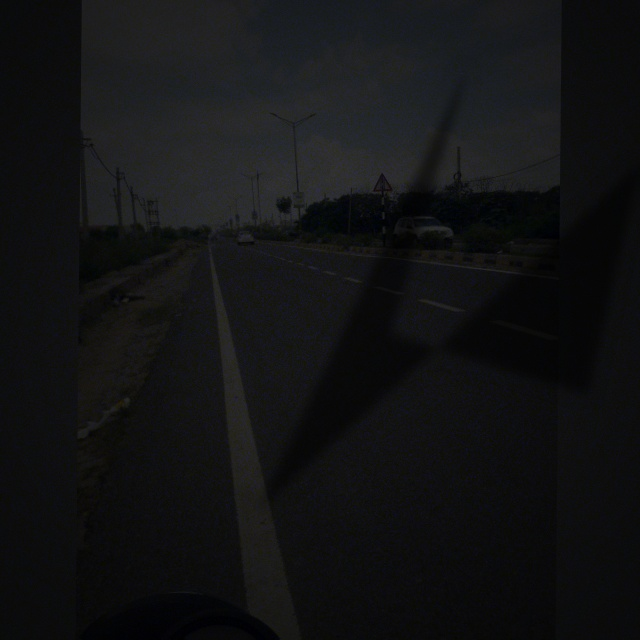Gap_in_Median: (368, 169, 396, 194)
